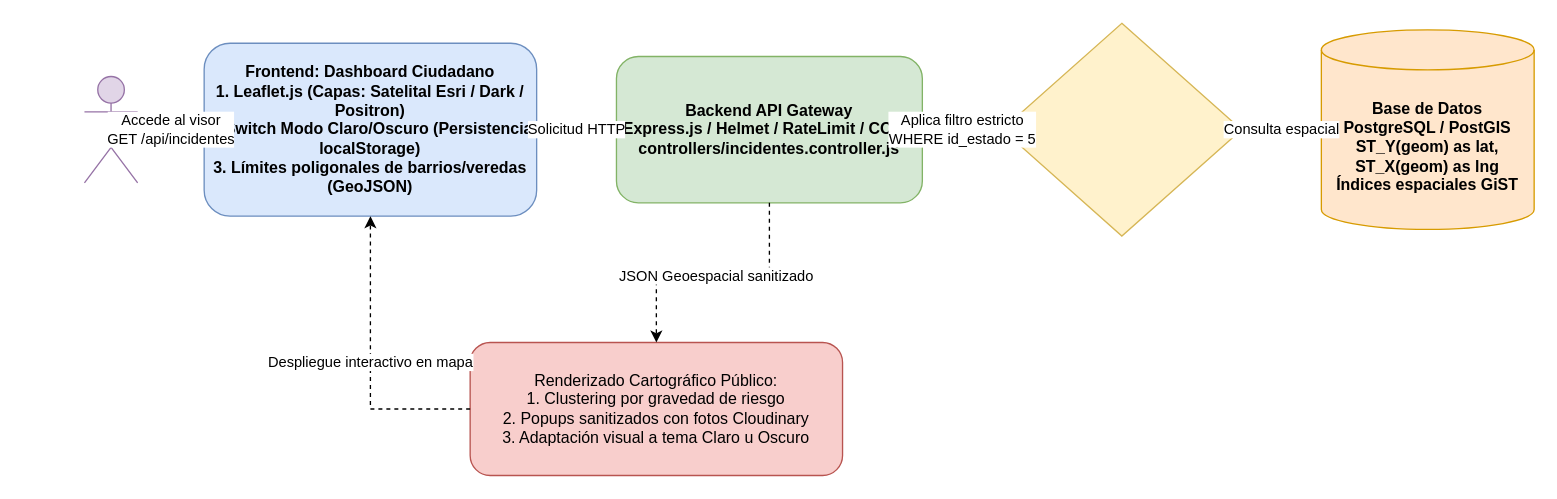
Image size: 1557x499. Some labels were removed from this diagram. The shapes that lost their labels are listed below. From the top down, each one's centre as x and y in pixels, then its label:
At point 110,129: "Ciudadano / Invitado (Navegador Web / Móvil)".
At point 1121,129: "Filtro de Seguridad Pública: ¿Estado = 5 ('Aprobado')? Omite datos personales".
